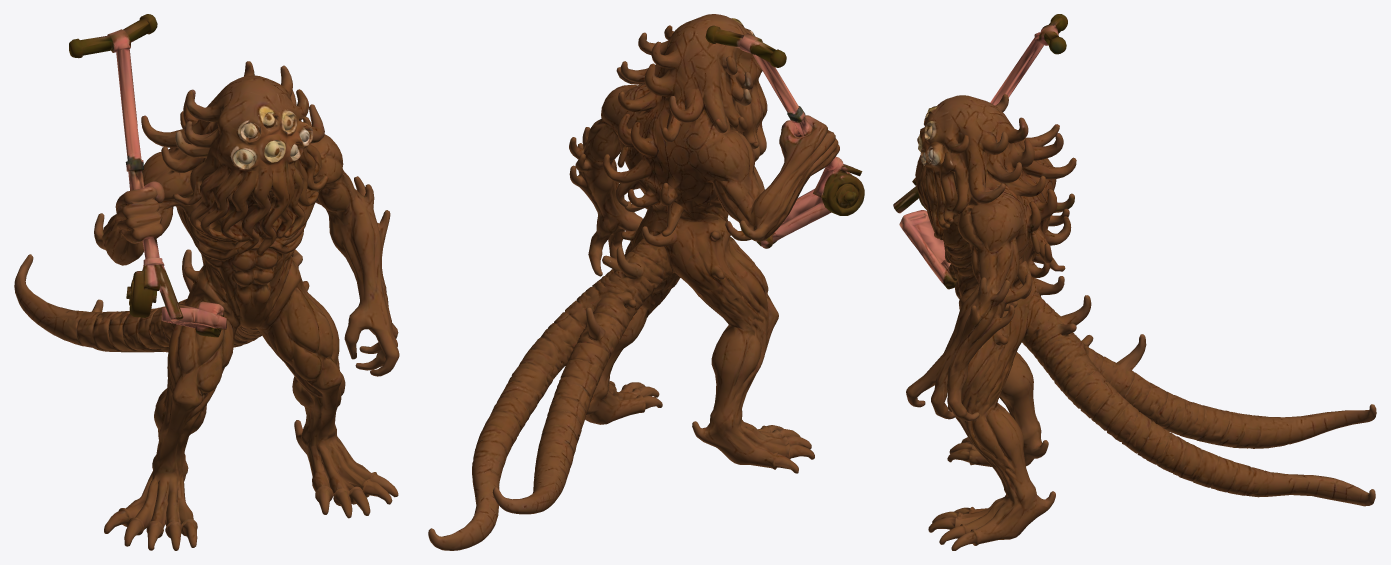
Rendered from scooter_monster.glb.
The picture shows the model from 3 angles, left to right: view 1: azimuth 30°, elevation 25°; view 2: azimuth 150°, elevation 25°; view 3: azimuth 270°, elevation 25°; orthographic projection. The views are drawn at different scales.
Parts seen in each view (by area): view 1: texture_pbr_v128; view 2: texture_pbr_v128; view 3: texture_pbr_v128.
Part boxes in pixels (x1,y1,x2,y2): texture_pbr_v128: [14, 14, 399, 550]; texture_pbr_v128: [428, 14, 864, 550]; texture_pbr_v128: [893, 14, 1376, 550].
Size of the model in its own units: 0.5253 by 0.8605 by 0.8721.
Materials: 1 (1 with a texture image).
